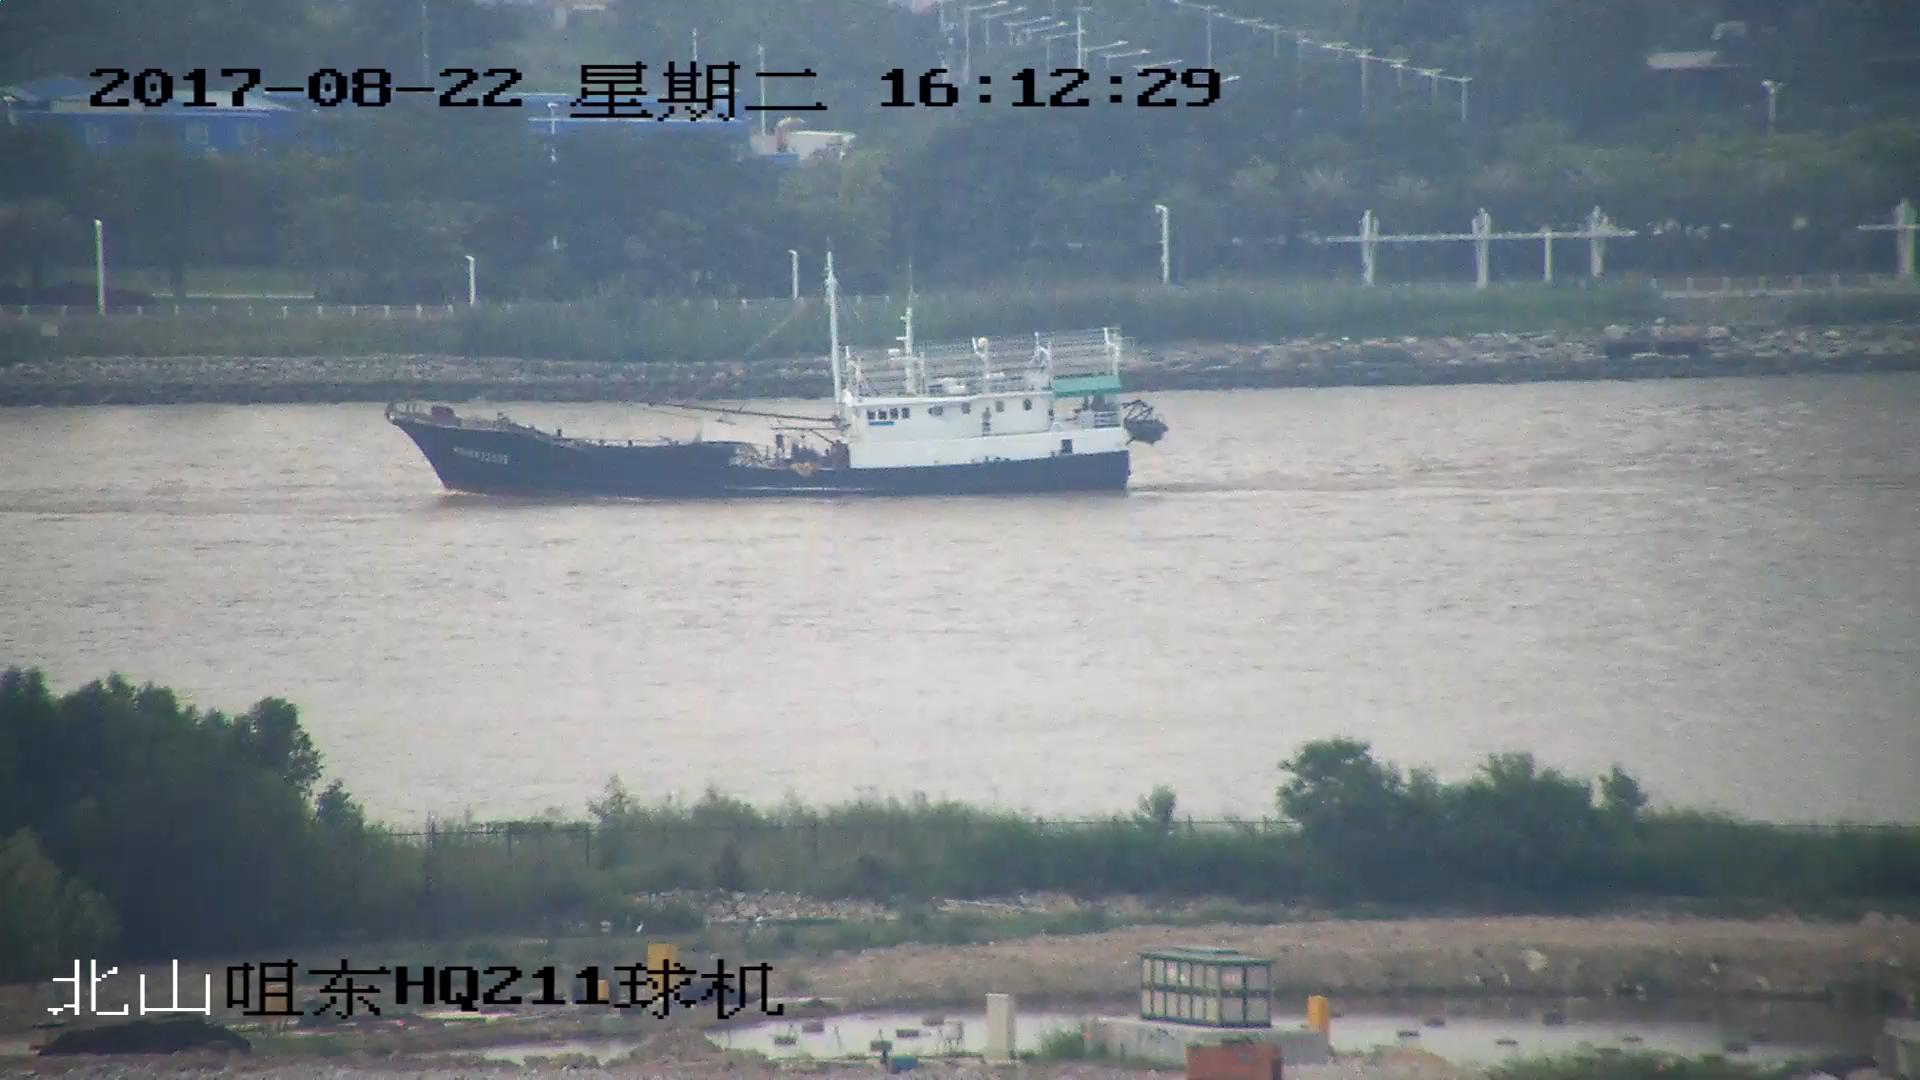fishing boat: (387, 267, 1171, 498)
